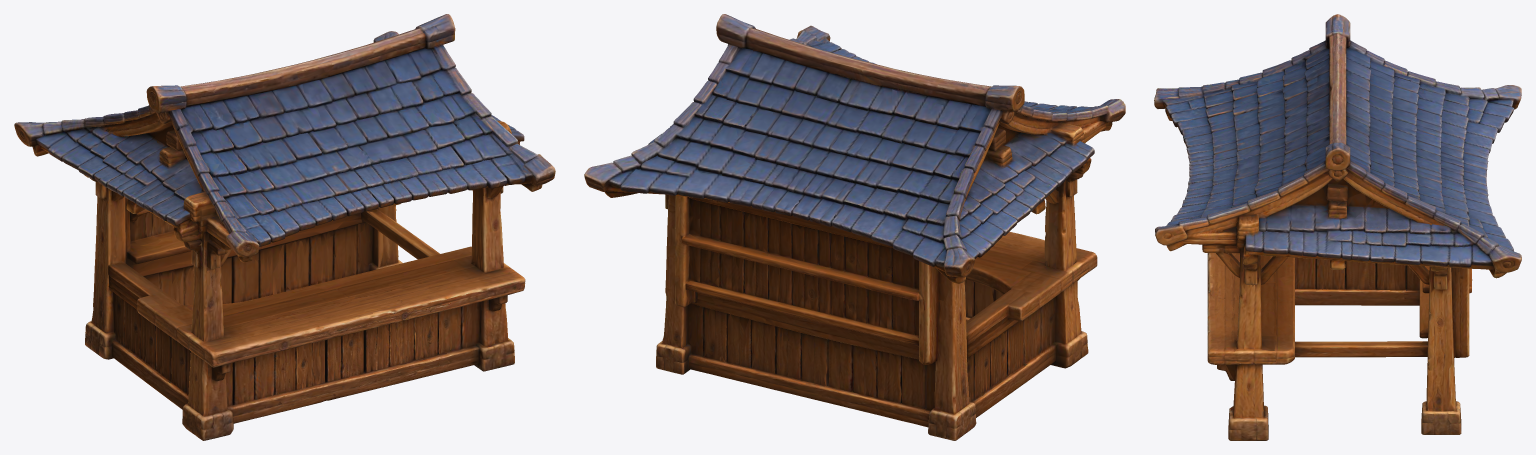
The model's file is tea_stall.glb.
3 views of the same model, side by side, from view 1: azimuth 30°, elevation 25°; view 2: azimuth 150°, elevation 25°; view 3: azimuth 270°, elevation 25° (orthographic). The views are drawn at different scales.
Visible parts, largest first — view 1: tripo_node_3bcc434f-60d5-42e4-a02c-2ea50c6ef4bd; view 2: tripo_node_3bcc434f-60d5-42e4-a02c-2ea50c6ef4bd; view 3: tripo_node_3bcc434f-60d5-42e4-a02c-2ea50c6ef4bd.
Boxes of the visible parts, bbox=[...] form: tripo_node_3bcc434f-60d5-42e4-a02c-2ea50c6ef4bd: bbox=[14, 14, 555, 440]; tripo_node_3bcc434f-60d5-42e4-a02c-2ea50c6ef4bd: bbox=[584, 14, 1125, 440]; tripo_node_3bcc434f-60d5-42e4-a02c-2ea50c6ef4bd: bbox=[1154, 14, 1521, 440].
Size of the model in its own units: 4.4 by 3.44 by 3.97.
1 material, 1 textured.
